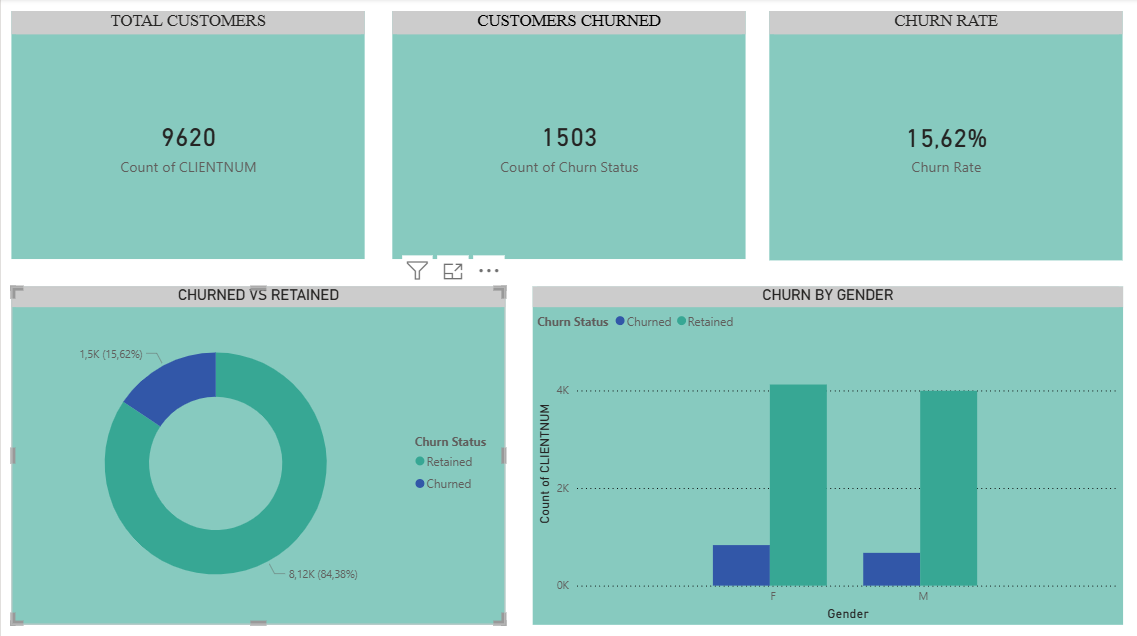

The dashboard page shown, as its layout file describes it:
{"tool":"powerbi","page":{"name":"Customer Overview","canvas":[1280,720],"ordinal":0},"visuals":[{"type":"card","title":"TOTAL CUSTOMERS","fields":{"Values":["Count(BankChurners.CLIENTNUM)"]},"box":[11.7,14.6,398.1,279.5],"z":0},{"type":"card","title":"CUSTOMERS CHURNED","fields":{"Values":["CountNonNull(BankChurners.Churn Status)"]},"box":[440.5,14.6,398.1,279.5],"z":1000},{"type":"card","title":"CHURN RATE","fields":{"Values":["BankChurners.Churn Rate"]},"box":[864.9,14.6,398.1,281],"z":2000},{"type":"donutChart","title":"CHURNED VS RETAINED","fields":{"Category":["BankChurners.Churn Status"],"Y":["CountNonNull(BankChurners.CLIENTNUM)"]},"box":[11.7,324.9,556.1,380.5],"z":3000},{"type":"clusteredColumnChart","title":"CHURN BY GENDER","fields":{"Category":["BankChurners.Gender"],"Y":["CountNonNull(BankChurners.CLIENTNUM)"],"Series":["BankChurners.Churn Status"]},"box":[598.6,324.9,664.4,380.5],"z":4000}]}

Visuals, with their boxes in screenshot pixels (x1, y1, x2, y2), scaled from the page's 1280x720 canvas onto the 1137x636 screenshot:
"TOTAL CUSTOMERS" card: {"x1": 10, "y1": 13, "x2": 364, "y2": 260}
"CUSTOMERS CHURNED" card: {"x1": 391, "y1": 13, "x2": 745, "y2": 260}
"CHURN RATE" card: {"x1": 768, "y1": 13, "x2": 1122, "y2": 261}
"CHURNED VS RETAINED" donutChart: {"x1": 10, "y1": 287, "x2": 504, "y2": 623}
"CHURN BY GENDER" clusteredColumnChart: {"x1": 532, "y1": 287, "x2": 1122, "y2": 623}
